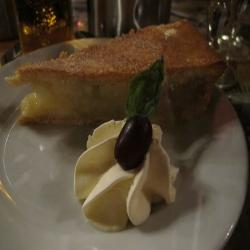apple_pie: (12, 19, 227, 139)
icecream: (67, 121, 184, 230)
